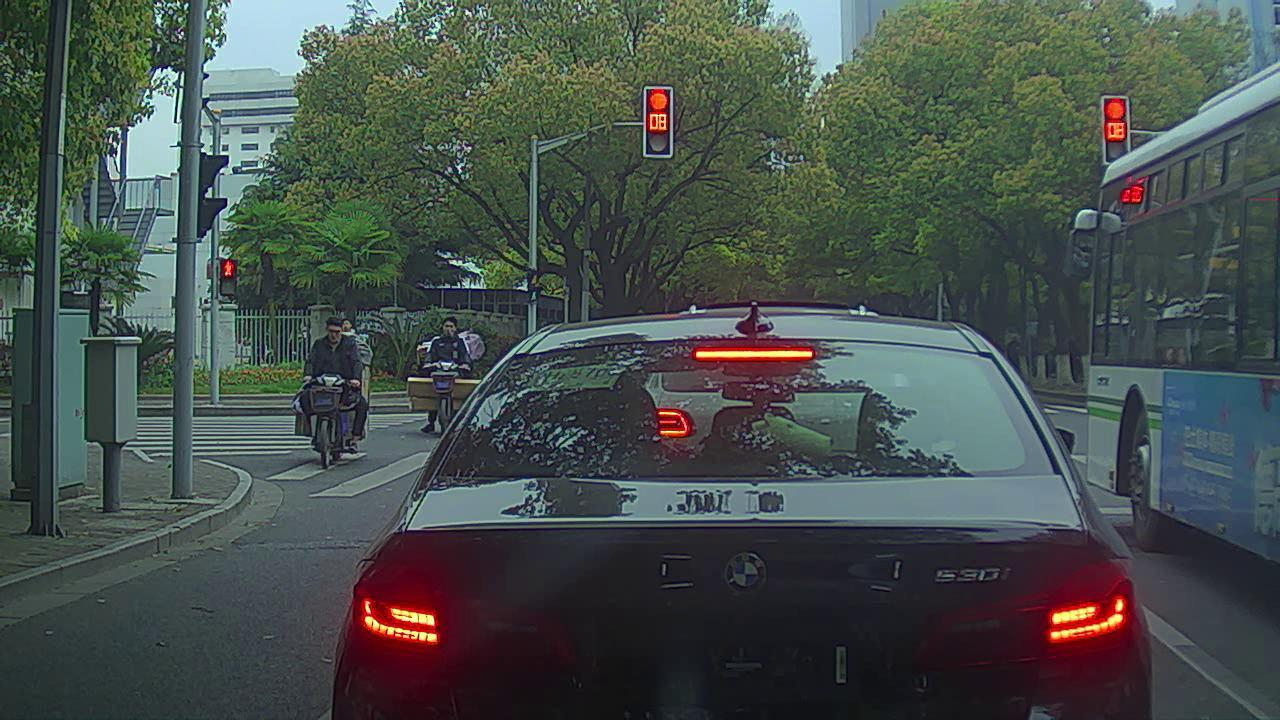traffic_light: (1098, 93, 1131, 159), (645, 87, 675, 151)
